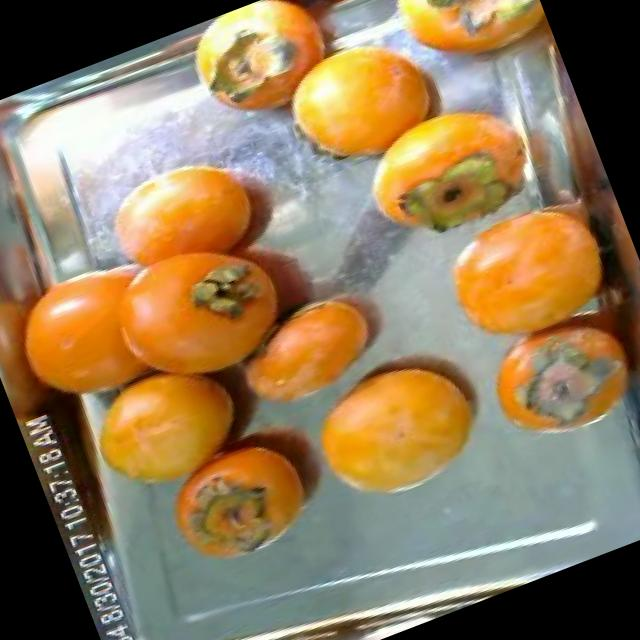Fruit: (280, 320, 520, 536), (329, 62, 572, 268), (250, 0, 480, 203), (412, 177, 640, 377), (60, 327, 274, 520), (142, 410, 352, 590)
